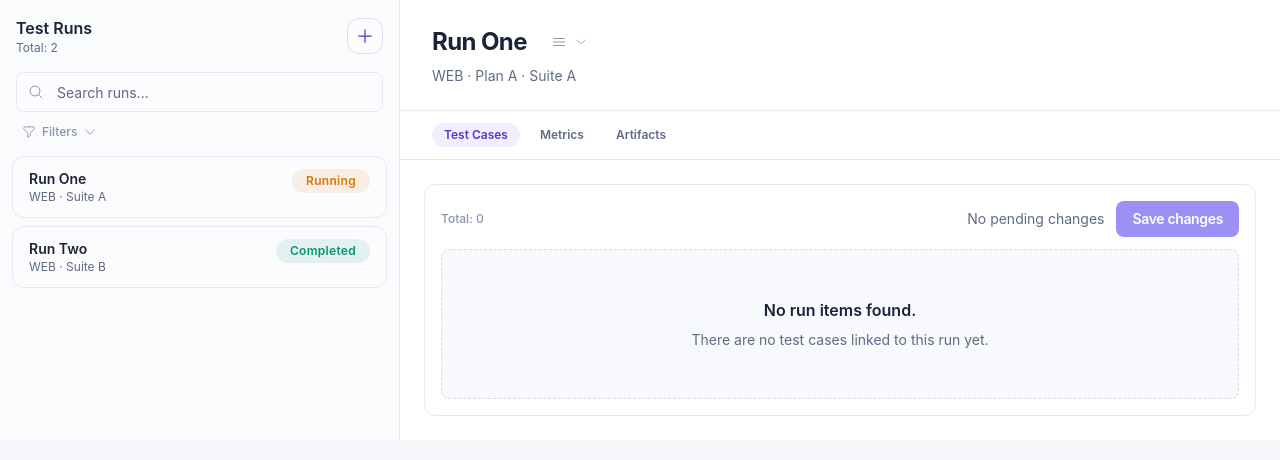
Test: TestRunsWorkspace › locks edit and execution actions when selected run is completed
Expected: the button "Run One WEB · Suite A Running" is shown, x1=12 y1=156 x2=387 y2=218
Click the button "Run Two WEB · Suite B Completed": click(58, 248) x1=12 y1=226 x2=387 y2=288
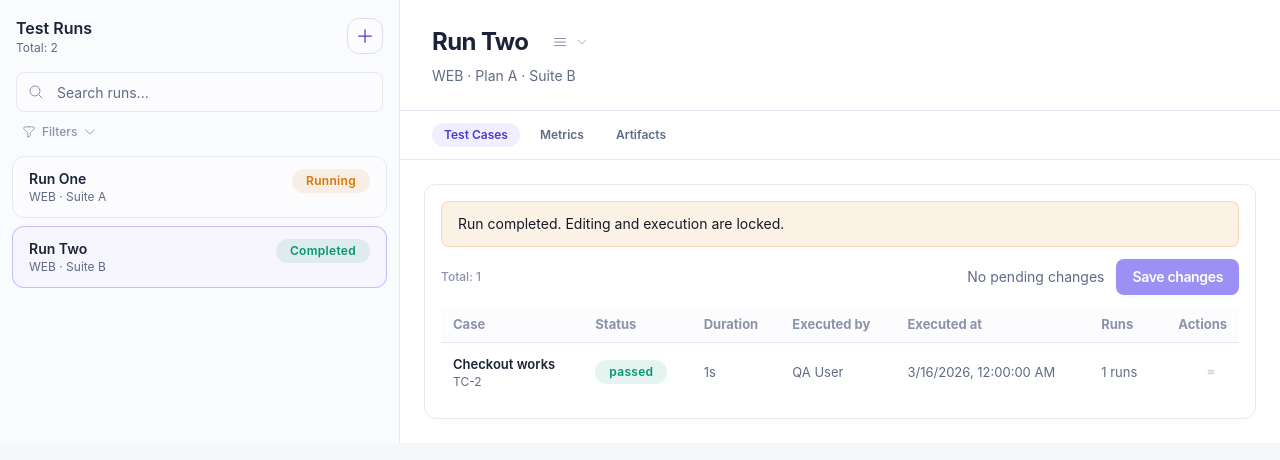
Expected: the text "Run completed. Editing and execution are locked." is shown, x1=441 y1=201 x2=1239 y2=247
Click the button named "Run actions": click(570, 42) x1=536 y1=24 x2=604 y2=60
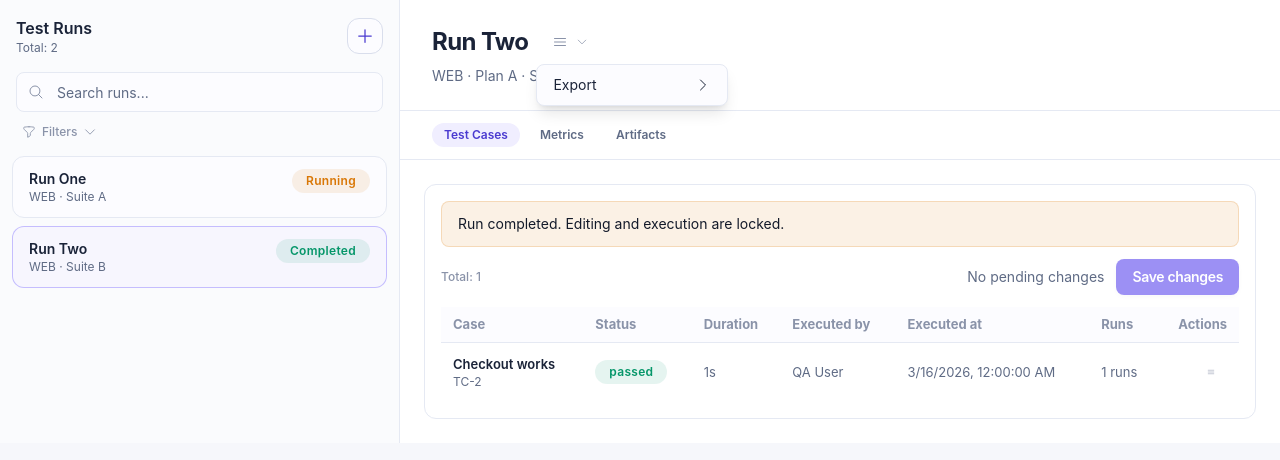
Expected: the button "Save changes" is disabled, x1=1116 y1=259 x2=1239 y2=295
Expected: the text "Checkout works" is shown, x1=453 y1=356 x2=555 y2=372
Right-click the text "Checkout works": (840, 372) x1=441 y1=342 x2=1239 y2=402
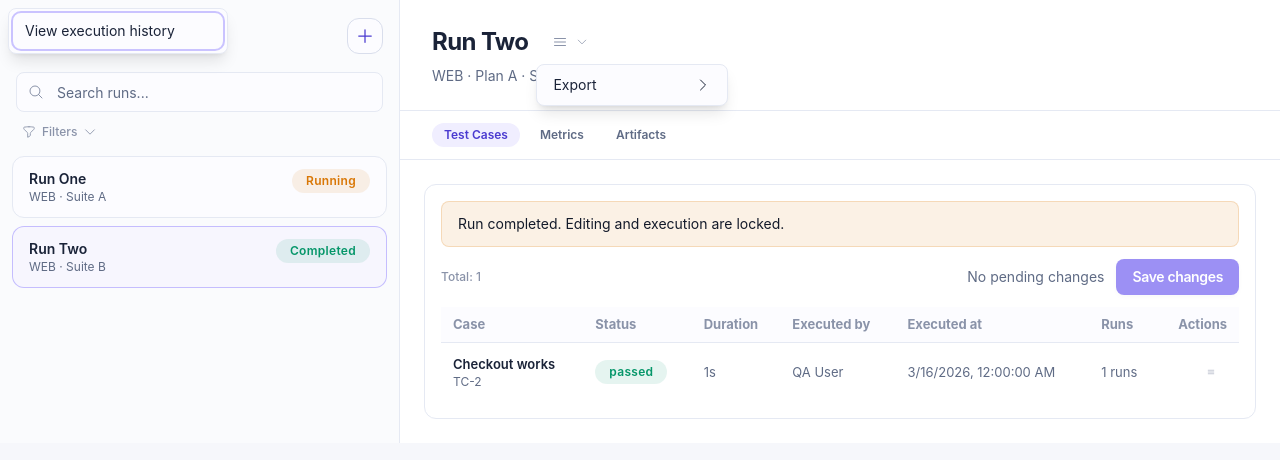
Expected: the menu item "View execution history" is shown, x1=15 y1=15 x2=221 y2=47
